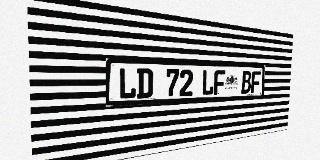2: (179, 69, 193, 96)
7: (165, 69, 179, 97)
B: (241, 71, 252, 94)
D: (137, 68, 153, 98)
F: (214, 70, 225, 95), (251, 71, 261, 93)
L: (119, 68, 136, 99), (202, 70, 214, 95)
